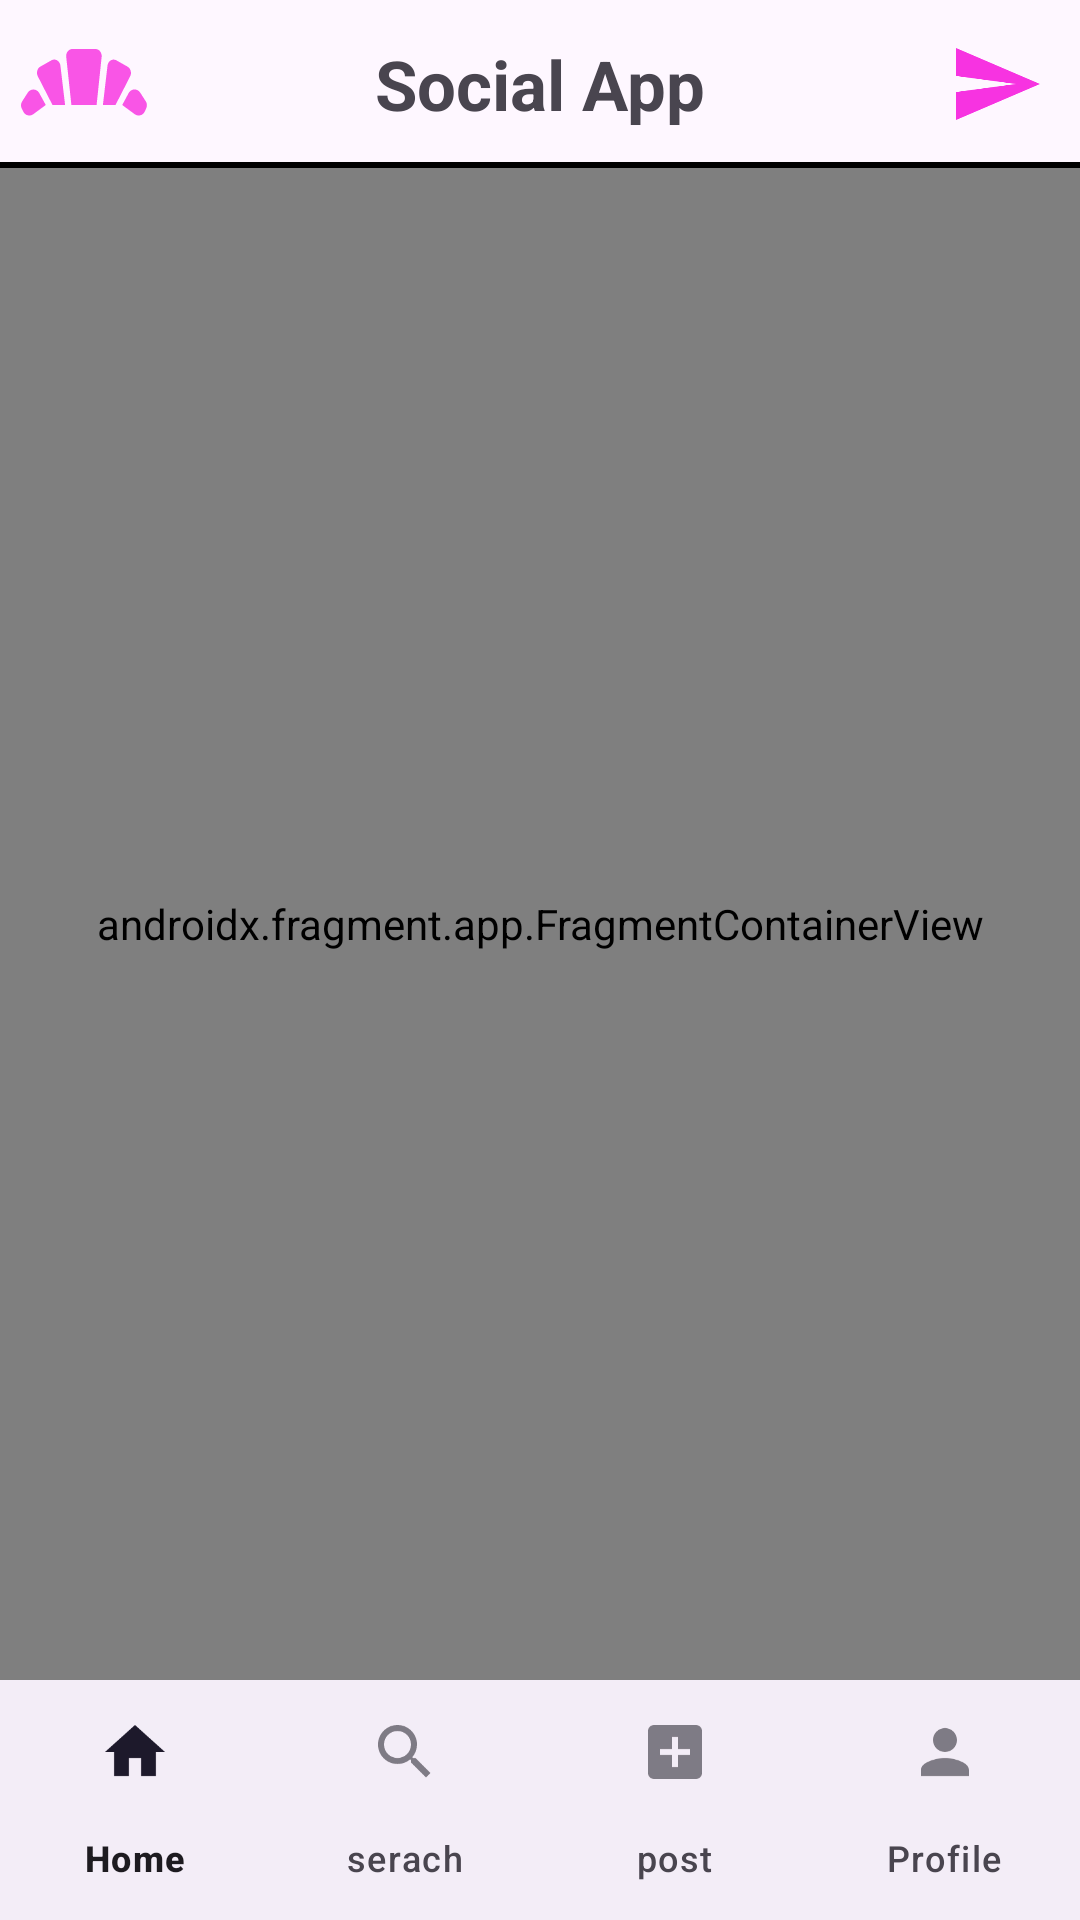

Screen size 1080px×1920px. Icon name, then its center in pixels as point (x, y):
send: point (998, 84)
